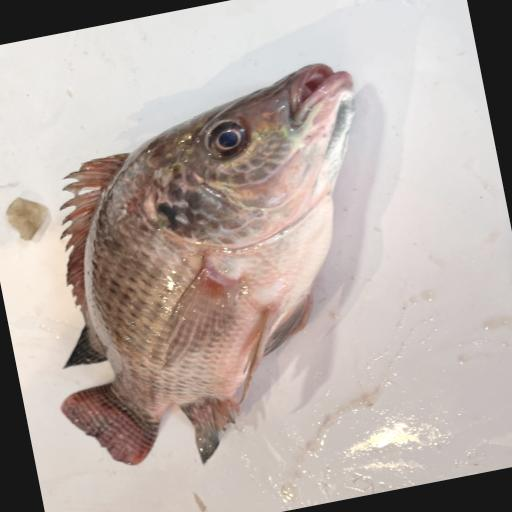Tilapia: (6, 58, 422, 489)
